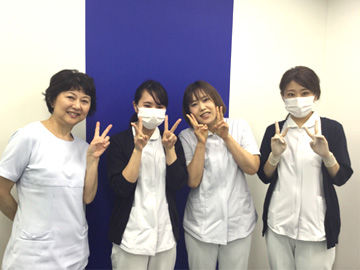mask: (285, 96, 316, 117), (138, 107, 166, 129)
